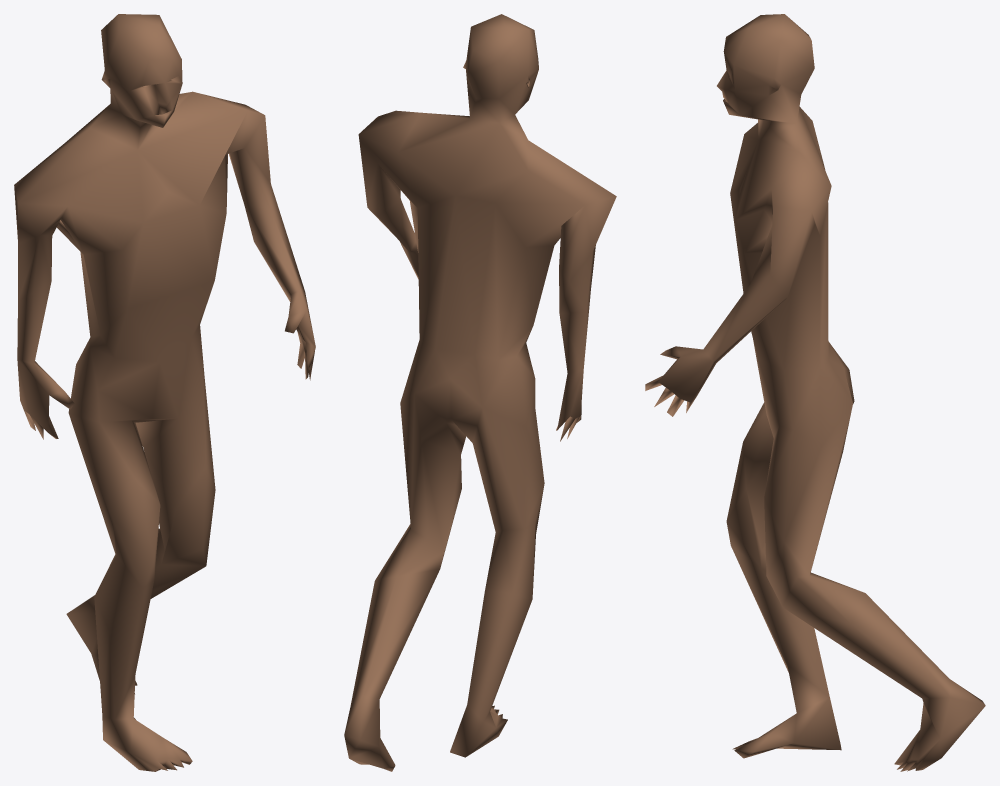
File: obs_000049.obj
The picture shows the model from 3 angles, left to right: view 1: azimuth 30°, elevation 25°; view 2: azimuth 150°, elevation 25°; view 3: azimuth 270°, elevation 25°; orthographic projection. The views are drawn at different scales.
Parts seen in each view (by area): view 1: 1-base_1-base.008; view 2: 1-base_1-base.008; view 3: 1-base_1-base.008.
Boxes of the visible parts, x1=… form: 1-base_1-base.008: x1=14, y1=14, x2=315, y2=771; 1-base_1-base.008: x1=344, y1=14, x2=616, y2=771; 1-base_1-base.008: x1=645, y1=14, x2=985, y2=771.
Size of the model in its own units: 0.4521 by 1.26 by 0.5357.
